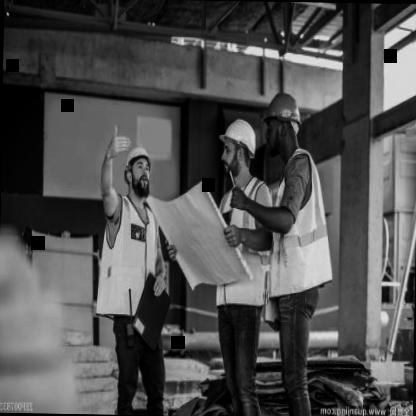helmet: (261, 86, 305, 162), (216, 111, 260, 181), (121, 136, 154, 196)
